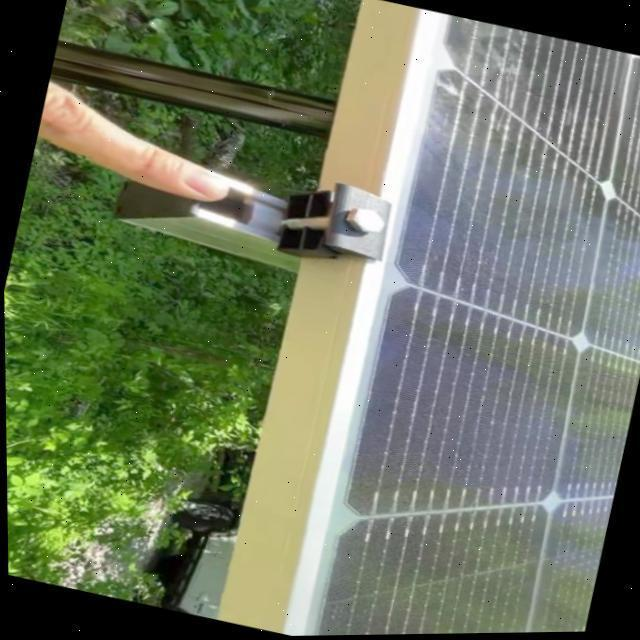Normal Solar Panel: (303, 14, 640, 636)
